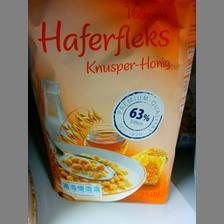Cerealien: (27, 0, 195, 204)
